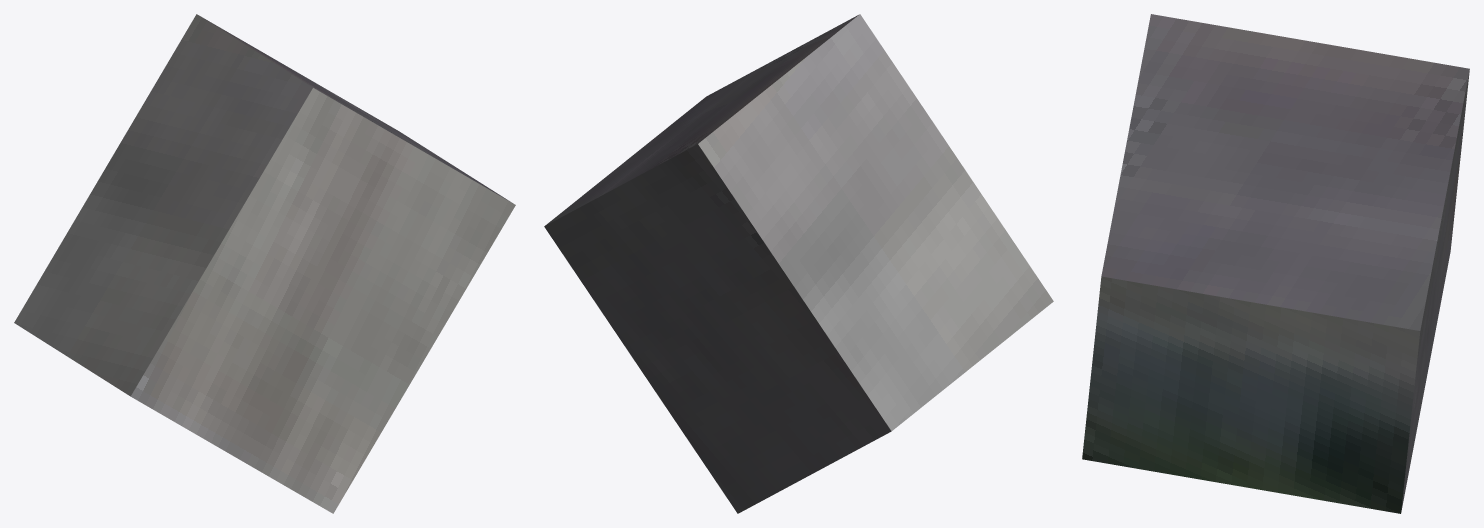
The picture shows the model from 3 angles, left to right: view 1: azimuth 30°, elevation 25°; view 2: azimuth 150°, elevation 25°; view 3: azimuth 270°, elevation 25°; orthographic projection. The views are drawn at different scales.
Parts seen in each view (by area): view 1: BAG_0599100010004426; view 2: BAG_0599100010004426; view 3: BAG_0599100010004426.
Part boxes in pixels (<box>): BAG_0599100010004426: <box>14,14,515,513</box>; BAG_0599100010004426: <box>544,14,1053,513</box>; BAG_0599100010004426: <box>1082,14,1469,513</box>.
Bounding box in the file's own units: 4 × 4.21 × 3.01.
Materials: 2 (1 with a texture image).
